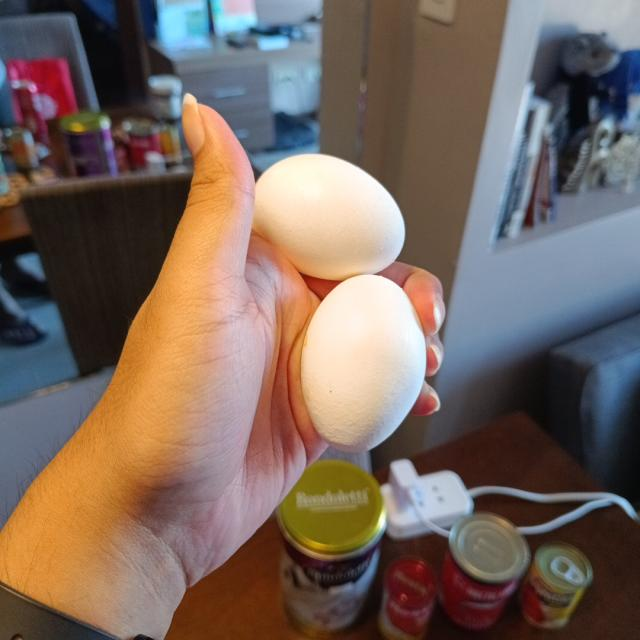egg: (300, 275, 425, 449), (254, 154, 406, 276)
